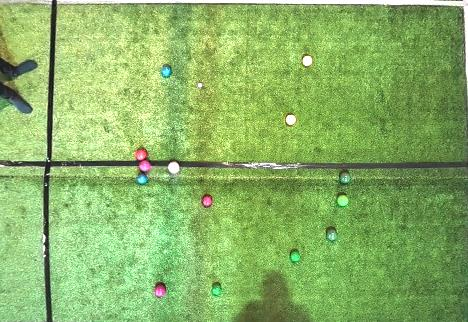blue: (136, 173, 148, 185), (161, 65, 172, 78)
green: (337, 194, 349, 207), (339, 172, 351, 184), (327, 229, 338, 241), (290, 250, 301, 262), (211, 284, 222, 296)
red: (168, 160, 180, 174), (155, 284, 167, 297), (139, 160, 152, 172), (135, 149, 147, 161), (202, 195, 212, 206)
vline: (1, 0, 58, 321), (460, 0, 467, 322)
white: (198, 83, 202, 87)
yellow: (285, 114, 296, 125), (302, 55, 313, 66)
